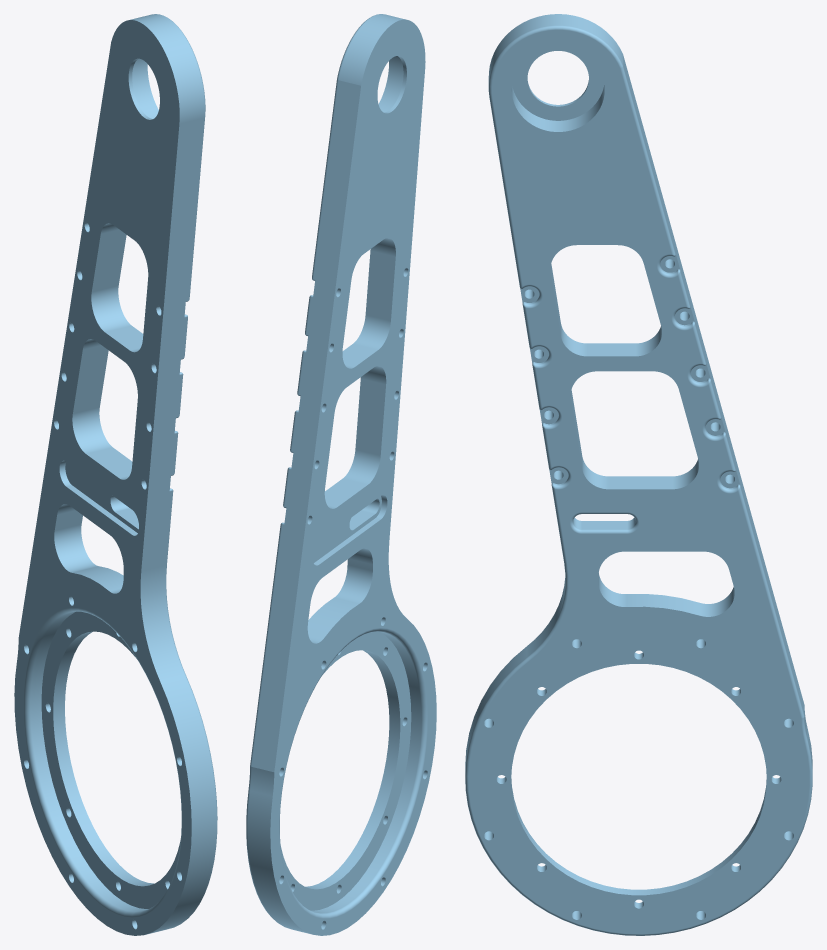
The picture shows the model from 3 angles, left to right: view 1: azimuth 30°, elevation 25°; view 2: azimuth 150°, elevation 25°; view 3: azimuth 270°, elevation 25°; orthographic projection. The views are drawn at different scales.
Visible parts, largest first — view 1: mesh3699, mesh3826, mesh3736, mesh3688, mesh3697, mesh3695, mesh3698, mesh3732, mesh3735, mesh3704, mesh3700, mesh3720 (+9 smaller); view 2: mesh3699, mesh3810, mesh3688, mesh3697, mesh3736, mesh3698, mesh3695, mesh3706, mesh3732, mesh3702, mesh3710, mesh3723 (+9 smaller); view 3: mesh3834, mesh3748, mesh3810, mesh3737, mesh3695, mesh3732, mesh3749, mesh3744, mesh3710, mesh3707, mesh3759, mesh3736 (+2 smaller).
Part boxes in pixels (bbox=[...]): mesh3699: bbox=[14, 20, 191, 935]; mesh3826: bbox=[141, 118, 203, 570]; mesh3736: bbox=[145, 676, 215, 934]; mesh3688: bbox=[41, 611, 180, 908]; mesh3697: bbox=[30, 611, 148, 911]; mesh3695: bbox=[53, 631, 154, 886]; mesh3698: bbox=[24, 607, 182, 917]; mesh3732: bbox=[130, 14, 203, 123]; mesh3735: bbox=[140, 589, 184, 681]; mesh3704: bbox=[73, 345, 108, 413]; mesh3700: bbox=[92, 229, 126, 291]; mesh3720: bbox=[54, 524, 98, 572]; mesh3699: bbox=[270, 19, 436, 935]; mesh3810: bbox=[251, 80, 360, 771]; mesh3688: bbox=[280, 631, 411, 910]; mesh3697: bbox=[311, 631, 421, 913]; mesh3736: bbox=[247, 790, 312, 934]; mesh3698: bbox=[279, 628, 427, 918]; mesh3695: bbox=[305, 650, 400, 889]; mesh3706: bbox=[355, 379, 385, 455]; mesh3732: bbox=[338, 14, 405, 85]; mesh3702: bbox=[365, 251, 395, 320]; mesh3710: bbox=[307, 597, 358, 637]; mesh3723: bbox=[334, 565, 372, 603]; mesh3834: bbox=[468, 30, 809, 933]; mesh3748: bbox=[512, 48, 604, 120]; mesh3810: bbox=[623, 56, 804, 715]; mesh3737: bbox=[465, 658, 812, 935]; mesh3695: bbox=[511, 779, 766, 895]; mesh3732: bbox=[488, 14, 623, 84]; mesh3749: bbox=[511, 84, 604, 131]; mesh3744: bbox=[738, 487, 804, 718]; mesh3710: bbox=[627, 594, 699, 615]; mesh3707: bbox=[608, 476, 672, 489]; mesh3759: bbox=[488, 25, 622, 98]; mesh3736: bbox=[465, 647, 812, 770].
Bounding box in the file's own units: 0.00924 × 0.3033 × 0.105.
